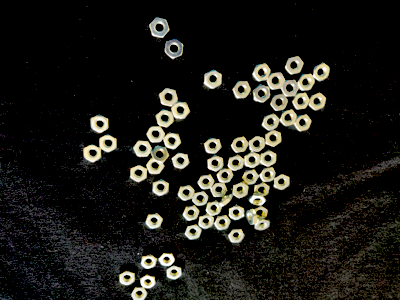nut: (165, 38, 184, 60), (150, 18, 170, 38), (285, 56, 304, 76), (253, 63, 272, 82), (252, 84, 271, 103), (270, 93, 289, 112), (156, 109, 175, 128), (204, 69, 222, 89), (232, 81, 252, 99), (171, 101, 191, 119), (313, 63, 331, 82), (267, 72, 286, 90), (160, 88, 178, 107), (91, 114, 109, 133), (99, 134, 117, 153), (84, 144, 102, 163), (151, 145, 170, 163), (291, 93, 311, 110), (298, 73, 316, 91), (262, 113, 280, 131), (164, 132, 182, 150), (204, 137, 222, 155), (280, 108, 297, 127), (147, 126, 166, 143), (146, 158, 165, 175), (231, 136, 250, 153), (281, 80, 299, 97), (310, 93, 327, 111), (295, 114, 312, 132), (172, 153, 190, 170), (131, 165, 148, 183), (153, 179, 170, 197), (249, 135, 266, 153), (228, 154, 245, 172), (232, 181, 249, 199), (134, 141, 153, 157), (145, 213, 164, 229), (207, 155, 224, 172), (261, 149, 277, 167), (245, 151, 261, 169), (178, 185, 196, 201), (266, 130, 282, 147), (214, 215, 231, 231), (141, 254, 158, 270), (119, 270, 136, 286), (206, 200, 222, 216), (186, 224, 202, 240), (260, 168, 277, 183), (242, 170, 259, 185), (198, 175, 215, 190), (211, 183, 228, 198), (183, 206, 200, 221), (198, 214, 215, 229), (217, 169, 235, 183), (275, 174, 290, 190), (254, 182, 270, 197), (218, 191, 233, 207), (193, 191, 209, 206), (229, 205, 245, 220), (159, 253, 176, 267), (249, 193, 267, 206), (141, 274, 156, 289), (254, 217, 270, 231), (229, 229, 245, 243), (167, 266, 182, 280), (132, 287, 148, 300), (247, 209, 258, 226), (255, 206, 268, 218)
